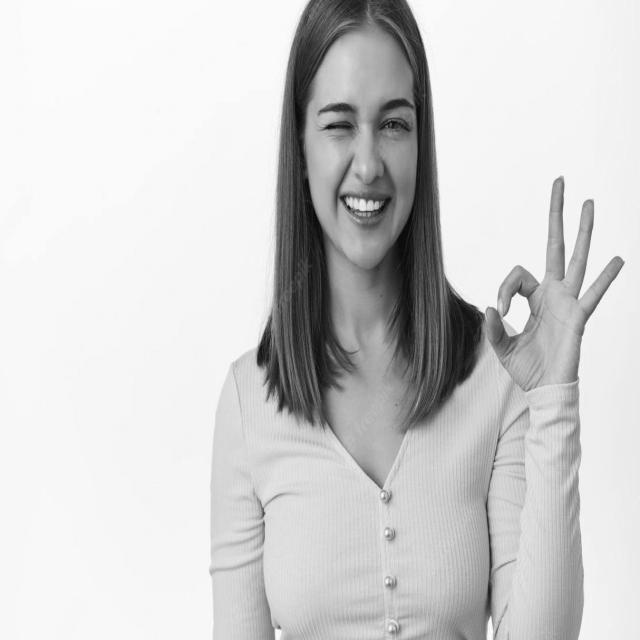perfect: (480, 167, 628, 395)
